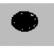correct: (8, 8, 44, 38)
